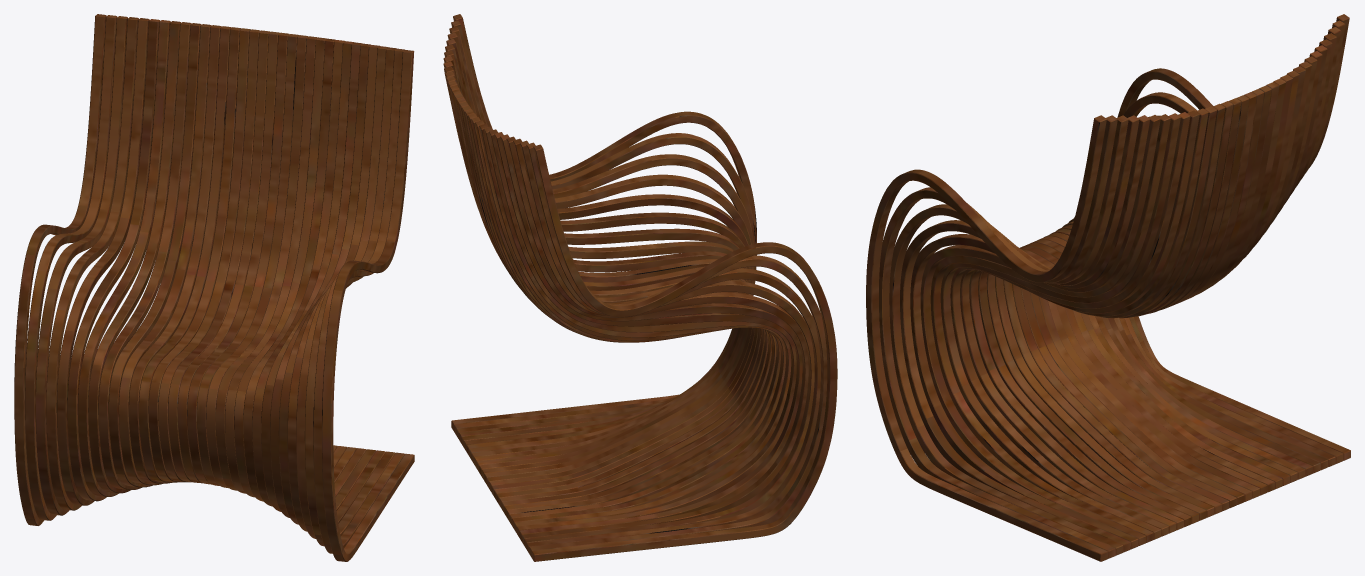
File: pipo_chair.lite.glb
3 views of the same model, side by side, from view 1: azimuth 30°, elevation 25°; view 2: azimuth 150°, elevation 25°; view 3: azimuth 270°, elevation 25° (orthographic). The views are drawn at different scales.
Visible parts, largest first — view 1: Object_4; view 2: Object_4; view 3: Object_4.
Part boxes in pixels (x1,y1,x2,y2): Object_4: (14, 14, 414, 561); Object_4: (443, 14, 837, 561); Object_4: (866, 14, 1350, 561).
Bounding box in the file's own units: 77.35 × 77.73 × 77.38.
1 material, 1 textured.
